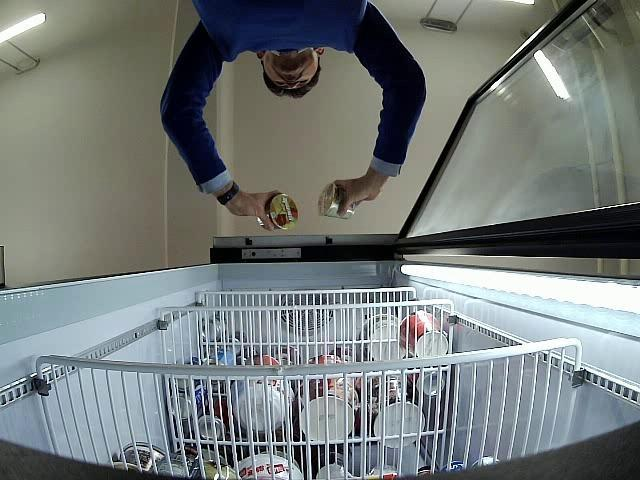04_chapagetti_S: (256, 194, 300, 230), (318, 184, 358, 220)
